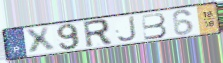6: (171, 8, 197, 36)
9: (55, 23, 81, 51)
B: (140, 12, 169, 41)
J: (116, 15, 139, 43)
R: (81, 18, 114, 50)
X: (23, 26, 58, 56)
